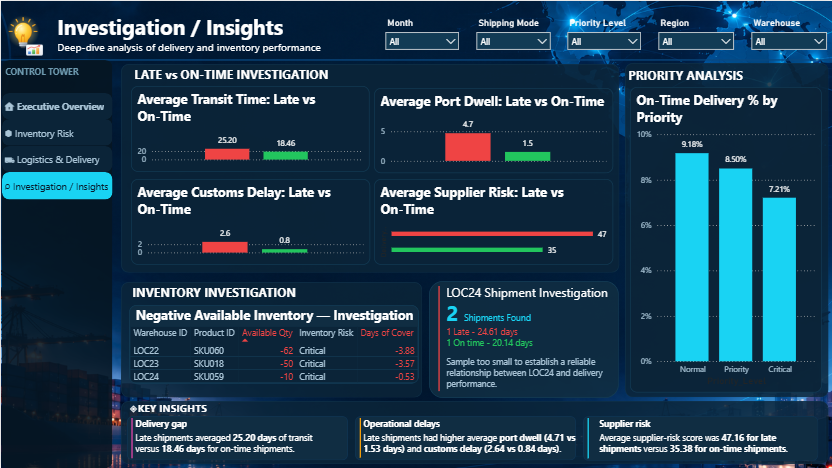

Layout of this report page (visuals, bound fields, positions):
{"tool":"powerbi","page":{"name":"insights","canvas":[1280,720],"ordinal":3},"visuals":[{"type":"textbox","box":[81.2,12.5,421.2,96.2],"z":0},{"type":"image","box":[0,12.5,67.5,83.8],"z":1000},{"type":"slicer","fields":{"Values":["dim_date.Month"]},"box":[581.8,20.3,132.7,70],"z":2000},{"type":"slicer","fields":{"Values":["fact_shipments.Shipping_Mode"]},"box":[721.3,20.3,133.6,70],"z":3000},{"type":"slicer","fields":{"Values":["fact_shipments.Priority_Level"]},"box":[861.8,20.3,132.7,70],"z":4000},{"type":"slicer","fields":{"Values":["dim_location.Region"]},"box":[1001.3,20.3,136.4,70],"z":5000},{"type":"slicer","fields":{"Values":["fact_inventory.Warehouse_ID"]},"box":[1144.5,20.3,136.4,97.3],"z":6000},{"type":"shape","box":[0,67,1280,46],"z":7000},{"type":"shape","box":[184.4,96.7,766.7,321.1],"z":8000},{"type":"clusteredColumnChart","title":"Average Port Dwell: Late vs On-Time","fields":{"Category":["fact_shipments.Delivery_Performance"],"Y":["fact_shipments.Average Port Dwell"]},"box":[574.4,133.3,367.8,131.1],"z":9000},{"type":"clusteredColumnChart","title":"Average Transit Time: Late vs On-Time","fields":{"Category":["fact_shipments.Delivery_Performance"],"Y":["Avg(fact_shipments.Transit_Time_Days)"]},"box":[200,131.1,366.7,132.2],"z":10000},{"type":"clusteredColumnChart","title":"Average Customs Delay: Late vs On-Time","fields":{"Category":["fact_shipments.Delivery_Performance"],"Y":["fact_shipments.Average Customs Delay"]},"box":[200,273.3,367.8,132.2],"z":11000},{"type":"clusteredBarChart","title":"Average Supplier Risk: Late vs On-Time","fields":{"Category":["fact_shipments.Delivery_Performance"],"Y":["Avg(fact_shipments.Supplier_Risk_Score)"],"Series":["fact_shipments.Delivery_Performance"]},"box":[574.4,273.3,367.8,132.2],"z":12000},{"type":"shape","box":[1.4,91.4,170,628.2],"z":13000},{"type":"actionButton","box":[1.4,141.4,170,40.9],"z":14000},{"type":"actionButton","box":[1.4,182.1,170,41.2],"z":15000},{"type":"actionButton","box":[1.4,223.4,170,40],"z":16000},{"type":"actionButton","box":[1.4,263.4,170,42.5],"z":17000},{"type":"textbox","box":[1.4,96,168.2,45.5],"z":18000},{"type":"textbox","box":[200,95,336.2,46.2],"z":19000},{"type":"shape","box":[960,95.6,313.3,514.4],"z":20000},{"type":"shape","box":[184.4,432.2,463.3,177.8],"z":21000},{"type":"textbox","box":[960,96.7,226.7,36.7],"z":22000},{"type":"textbox","box":[196.3,430,338,43],"z":23000},{"type":"clusteredColumnChart","title":"On-Time Delivery % by Priority","fields":{"Category":["fact_shipments.Priority_Level"],"Y":["fact_shipments.On Time Delivery %"]},"box":[968.3,131.7,295,470],"z":24000},{"type":"tableEx","title":"Negative Available Inventory — Investigation","fields":{"Values":["fact_inventory.Warehouse_ID","fact_inventory.Product_ID","fact_inventory.Available_Qty","fact_inventory.Inventory_Risk","Sum(fact_inventory.Days_of_Cover)"]},"box":[196.3,468,446,121],"z":25000},{"type":"shape","box":[658.9,430,292.2,180],"z":26000},{"type":"shape","box":[667.5,439.2,12.5,161.7],"z":27000},{"type":"textbox","box":[680,430,262.2,171.1],"z":28000},{"type":"textbox","box":[680,452.2,203.3,88.9],"z":29000},{"type":"shape","box":[184.3,615.7,1088.6,97.1],"z":30000},{"type":"textbox","box":[192.9,610.7,147.9,34.3],"z":31000},{"type":"shape","box":[896,638,362,69],"z":32000},{"type":"shape","box":[193.6,638.2,340,68.2],"z":33000},{"type":"shape","box":[896,642,16,62],"z":34000},{"type":"shape","box":[194.5,641.8,15.5,61.8],"z":35000},{"type":"textbox","title":"Supplier risk","box":[916,642,334,61],"z":36000},{"type":"shape","box":[544.5,638.2,340,68.2],"z":37000},{"type":"textbox","title":"Delivery gap","box":[201.8,641.8,316.4,65.5],"z":38000},{"type":"textbox","title":"Operational delays","box":[553,641,343,72],"z":39000},{"type":"shape","box":[544.3,641.4,16.4,61.4],"z":40000}]}

Visuals, with their boxes on the page's 1280x720 design canvas (x1, y1, x2, y2). These are canvas units, not pixel positions in the 832x468 screenshot, which may show the page scaled, cropped or inside an application window:
textbox: [81, 12, 502, 109]
image: [0, 12, 68, 96]
slicer - dim_date.Month: [582, 20, 714, 90]
slicer - fact_shipments.Shipping_Mode: [721, 20, 855, 90]
slicer - fact_shipments.Priority_Level: [862, 20, 994, 90]
slicer - dim_location.Region: [1001, 20, 1138, 90]
slicer - fact_inventory.Warehouse_ID: [1144, 20, 1281, 118]
shape: [0, 67, 1280, 113]
shape: [184, 97, 951, 418]
"Average Port Dwell: Late vs On-Time" clusteredColumnChart: [574, 133, 942, 264]
"Average Transit Time: Late vs On-Time" clusteredColumnChart: [200, 131, 567, 263]
"Average Customs Delay: Late vs On-Time" clusteredColumnChart: [200, 273, 568, 406]
"Average Supplier Risk: Late vs On-Time" clusteredBarChart: [574, 273, 942, 406]
shape: [1, 91, 171, 720]
actionButton: [1, 141, 171, 182]
actionButton: [1, 182, 171, 223]
actionButton: [1, 223, 171, 263]
actionButton: [1, 263, 171, 306]
textbox: [1, 96, 170, 142]
textbox: [200, 95, 536, 141]
shape: [960, 96, 1273, 610]
shape: [184, 432, 648, 610]
textbox: [960, 97, 1187, 133]
textbox: [196, 430, 534, 473]
"On-Time Delivery % by Priority" clusteredColumnChart: [968, 132, 1263, 602]
"Negative Available Inventory — Investigation" tableEx: [196, 468, 642, 589]
shape: [659, 430, 951, 610]
shape: [668, 439, 680, 601]
textbox: [680, 430, 942, 601]
textbox: [680, 452, 883, 541]
shape: [184, 616, 1273, 713]
textbox: [193, 611, 341, 645]
shape: [896, 638, 1258, 707]
shape: [194, 638, 534, 706]
shape: [896, 642, 912, 704]
shape: [194, 642, 210, 704]
"Supplier risk" textbox: [916, 642, 1250, 703]
shape: [544, 638, 884, 706]
"Delivery gap" textbox: [202, 642, 518, 707]
"Operational delays" textbox: [553, 641, 896, 713]
shape: [544, 641, 561, 703]
